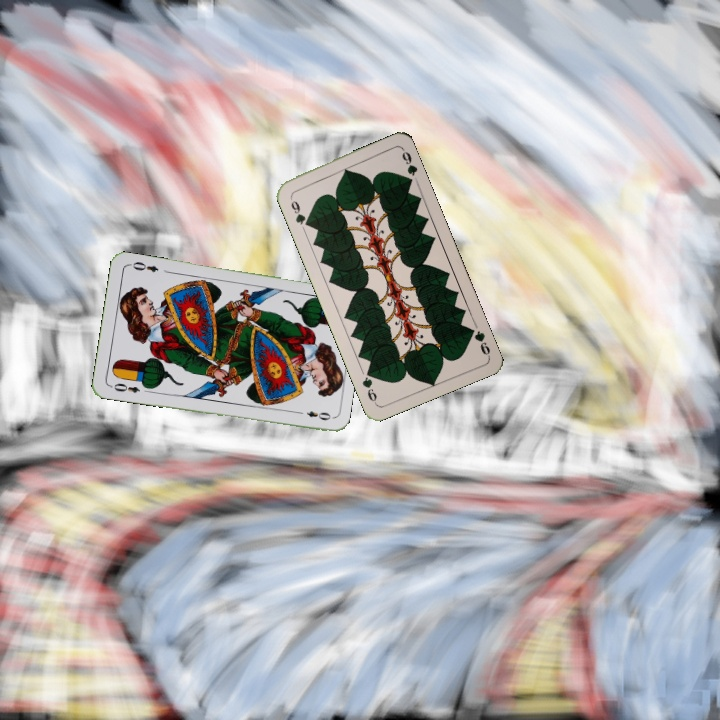EO: (106, 379, 142, 395)
G9: (464, 323, 493, 359), (286, 192, 312, 229)
